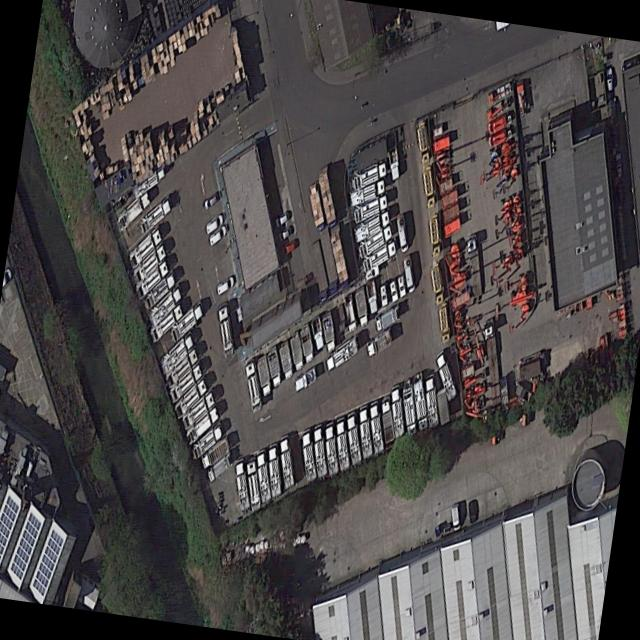large-vehicle: (157, 330, 194, 378), (168, 299, 205, 345), (172, 375, 208, 422), (126, 227, 162, 273), (482, 318, 500, 410), (183, 403, 220, 447), (179, 388, 215, 433), (166, 361, 202, 406), (130, 242, 166, 286), (144, 286, 181, 328), (140, 270, 176, 313), (148, 301, 183, 345), (323, 333, 360, 374), (136, 195, 172, 237), (163, 346, 198, 389), (115, 190, 150, 233), (134, 258, 168, 301), (351, 208, 390, 245), (360, 236, 396, 275), (356, 222, 392, 261), (190, 421, 224, 462), (130, 164, 165, 201), (433, 352, 458, 403), (198, 436, 230, 474), (465, 233, 483, 300), (347, 178, 385, 209), (350, 160, 386, 192), (352, 194, 388, 226), (410, 370, 427, 434), (215, 302, 234, 359), (344, 410, 362, 467), (277, 435, 295, 491), (243, 360, 261, 415), (367, 400, 384, 458), (244, 460, 261, 515), (364, 327, 392, 360), (422, 373, 438, 430), (299, 431, 316, 484), (233, 458, 249, 514), (401, 383, 417, 438), (356, 406, 372, 461), (322, 423, 338, 478), (254, 451, 270, 505), (310, 426, 326, 480), (205, 452, 232, 483), (373, 304, 400, 335), (334, 419, 349, 474), (389, 385, 404, 439), (286, 329, 304, 374), (319, 309, 336, 356), (266, 444, 280, 499), (296, 323, 314, 365), (340, 293, 358, 335), (379, 396, 394, 446), (292, 366, 317, 396), (254, 355, 271, 399), (265, 345, 282, 389), (413, 120, 429, 166), (276, 339, 293, 382), (485, 112, 512, 138), (420, 165, 435, 211), (400, 252, 416, 295), (428, 262, 443, 307), (393, 212, 409, 254), (427, 213, 441, 259), (308, 313, 324, 353), (436, 303, 450, 345), (486, 127, 512, 149), (385, 145, 400, 182), (364, 278, 378, 316)
small-vehicle: (207, 224, 226, 248), (215, 275, 235, 297), (204, 213, 223, 236), (202, 192, 219, 212), (273, 210, 289, 230), (450, 503, 460, 532), (277, 224, 291, 244), (281, 239, 296, 257), (614, 181, 624, 208), (609, 122, 619, 149), (613, 152, 622, 179), (467, 500, 477, 523), (607, 97, 616, 122), (604, 66, 612, 91)
storage-tank: (565, 441, 609, 515)
